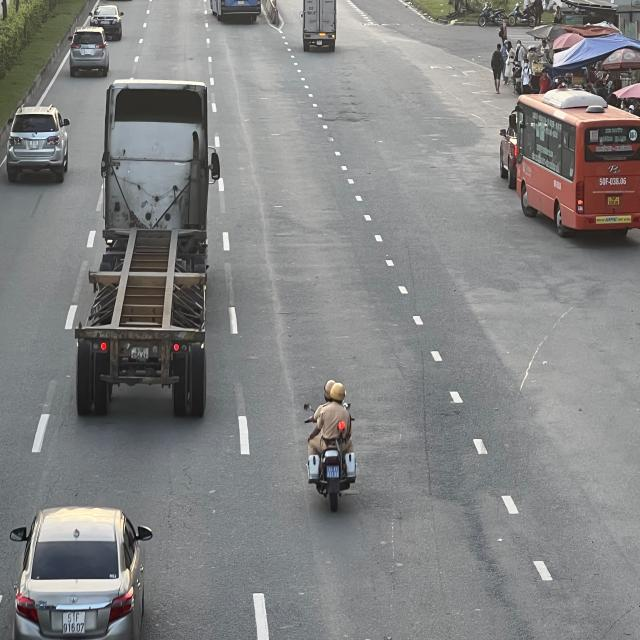car: (11, 505, 153, 639), (8, 105, 72, 181), (67, 28, 110, 76), (91, 5, 125, 42)
coach: (500, 93, 640, 233)
container: (74, 83, 218, 420)
truck: (303, 0, 340, 50)
